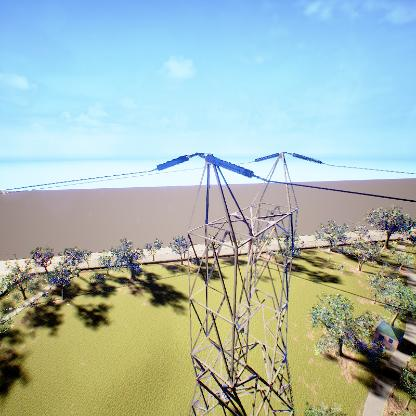insulator: (204, 155, 255, 178), (157, 154, 191, 170), (293, 152, 322, 164), (251, 152, 280, 163)
